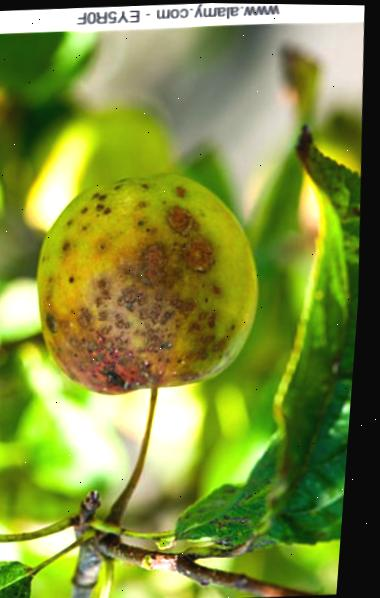SCAB: (0, 156, 283, 428)
